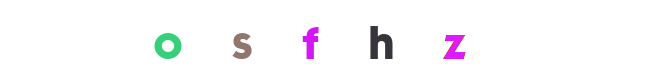F: (293, 0, 373, 80)
H: (340, 0, 420, 80)
O: (127, 0, 207, 80)
S: (242, 0, 322, 80)
Z: (344, 0, 424, 80)
